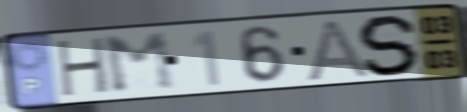1: (192, 28, 221, 88)
6: (236, 22, 290, 86)
A: (302, 16, 374, 83)
H: (55, 34, 111, 100)
M: (99, 29, 181, 97)
S: (355, 13, 423, 78)
